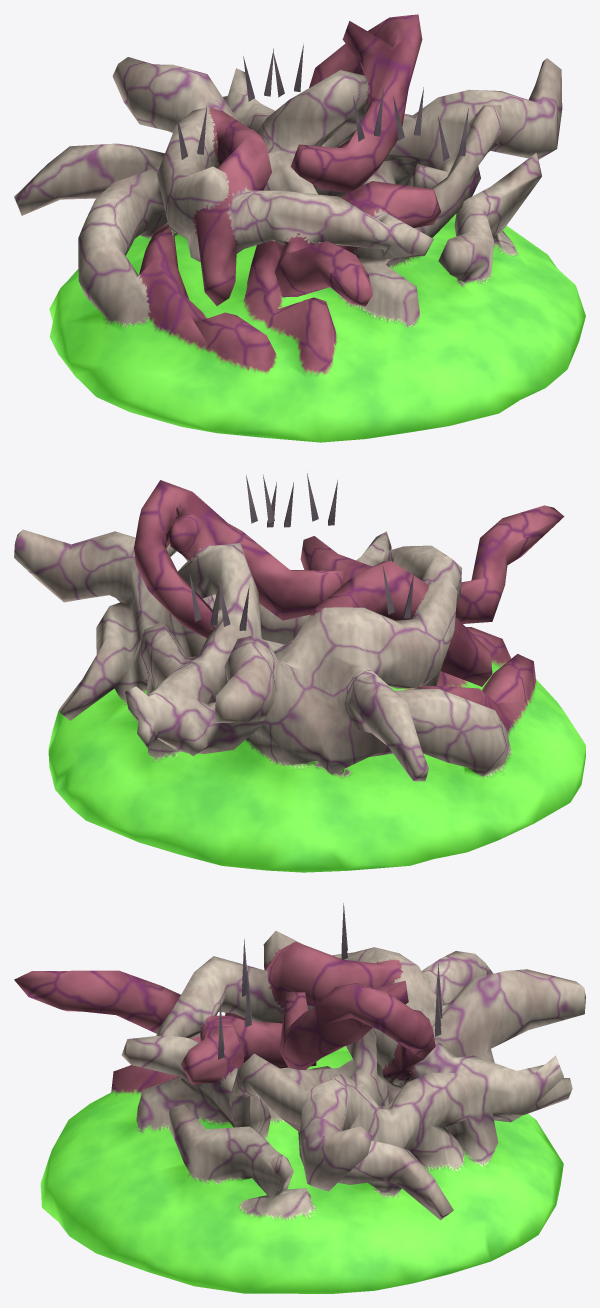
Rendered from nido_parasitos.fbx.
3 renders of one model, top to bottom at view 1: azimuth 30°, elevation 25°; view 2: azimuth 150°, elevation 25°; view 3: azimuth 270°, elevation 25°, orthographic. The views are drawn at different scales.
Parts seen in each view (by area): view 1: nido; view 2: nido; view 3: nido.
Boxes of the visible parts, <box> form: nido: <box>14,14,585,442</box>; nido: <box>14,473,585,872</box>; nido: <box>14,903,585,1293</box>.
Bounding box in the file's own units: 2 × 0.9972 × 1.99.
Materials: 1 (1 with a texture image).
